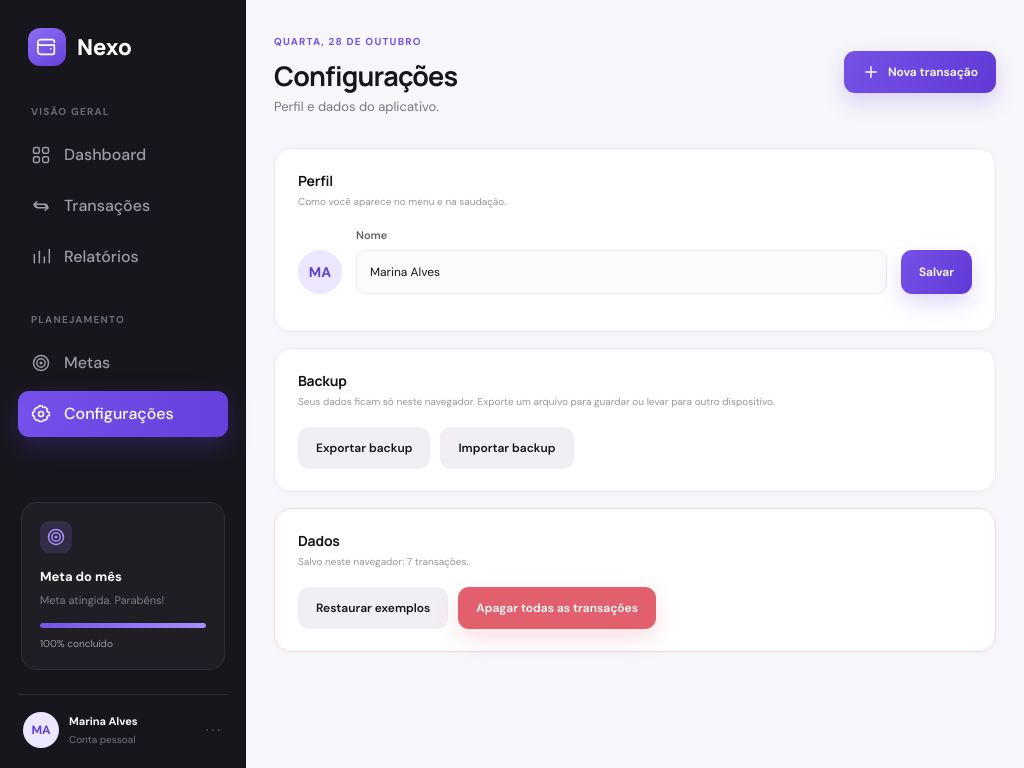
Test case: Página Configurações › apaga todas as transações depois de confirmar
Click the button "Apagar todas as transações": {"x": 557, "y": 608} top-left (458, 587), bottom-right (656, 629)
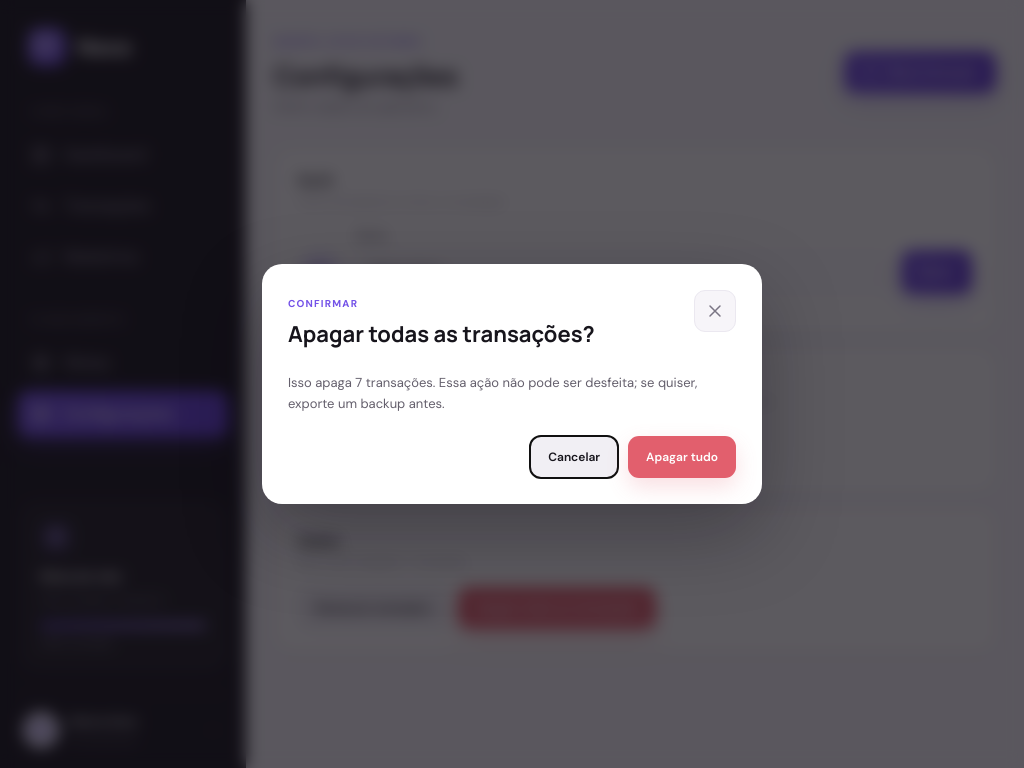
Now the dialog "Apagar todas as transações?" shows "Isso apaga 7 transações.", box top-left (288, 374), bottom-right (697, 412)
Click the button "Apagar tudo": {"x": 682, "y": 457} top-left (628, 436), bottom-right (736, 478)
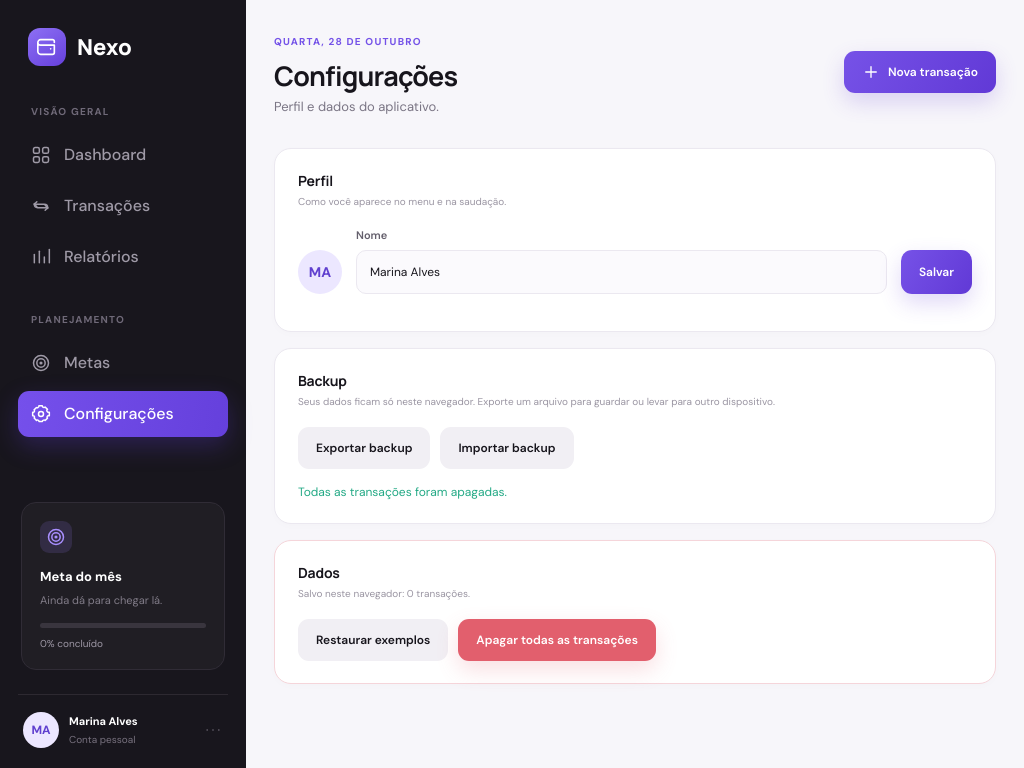
Now the text "Salvo neste navegador: 0 transações." is shown, box top-left (298, 586), bottom-right (470, 601)
